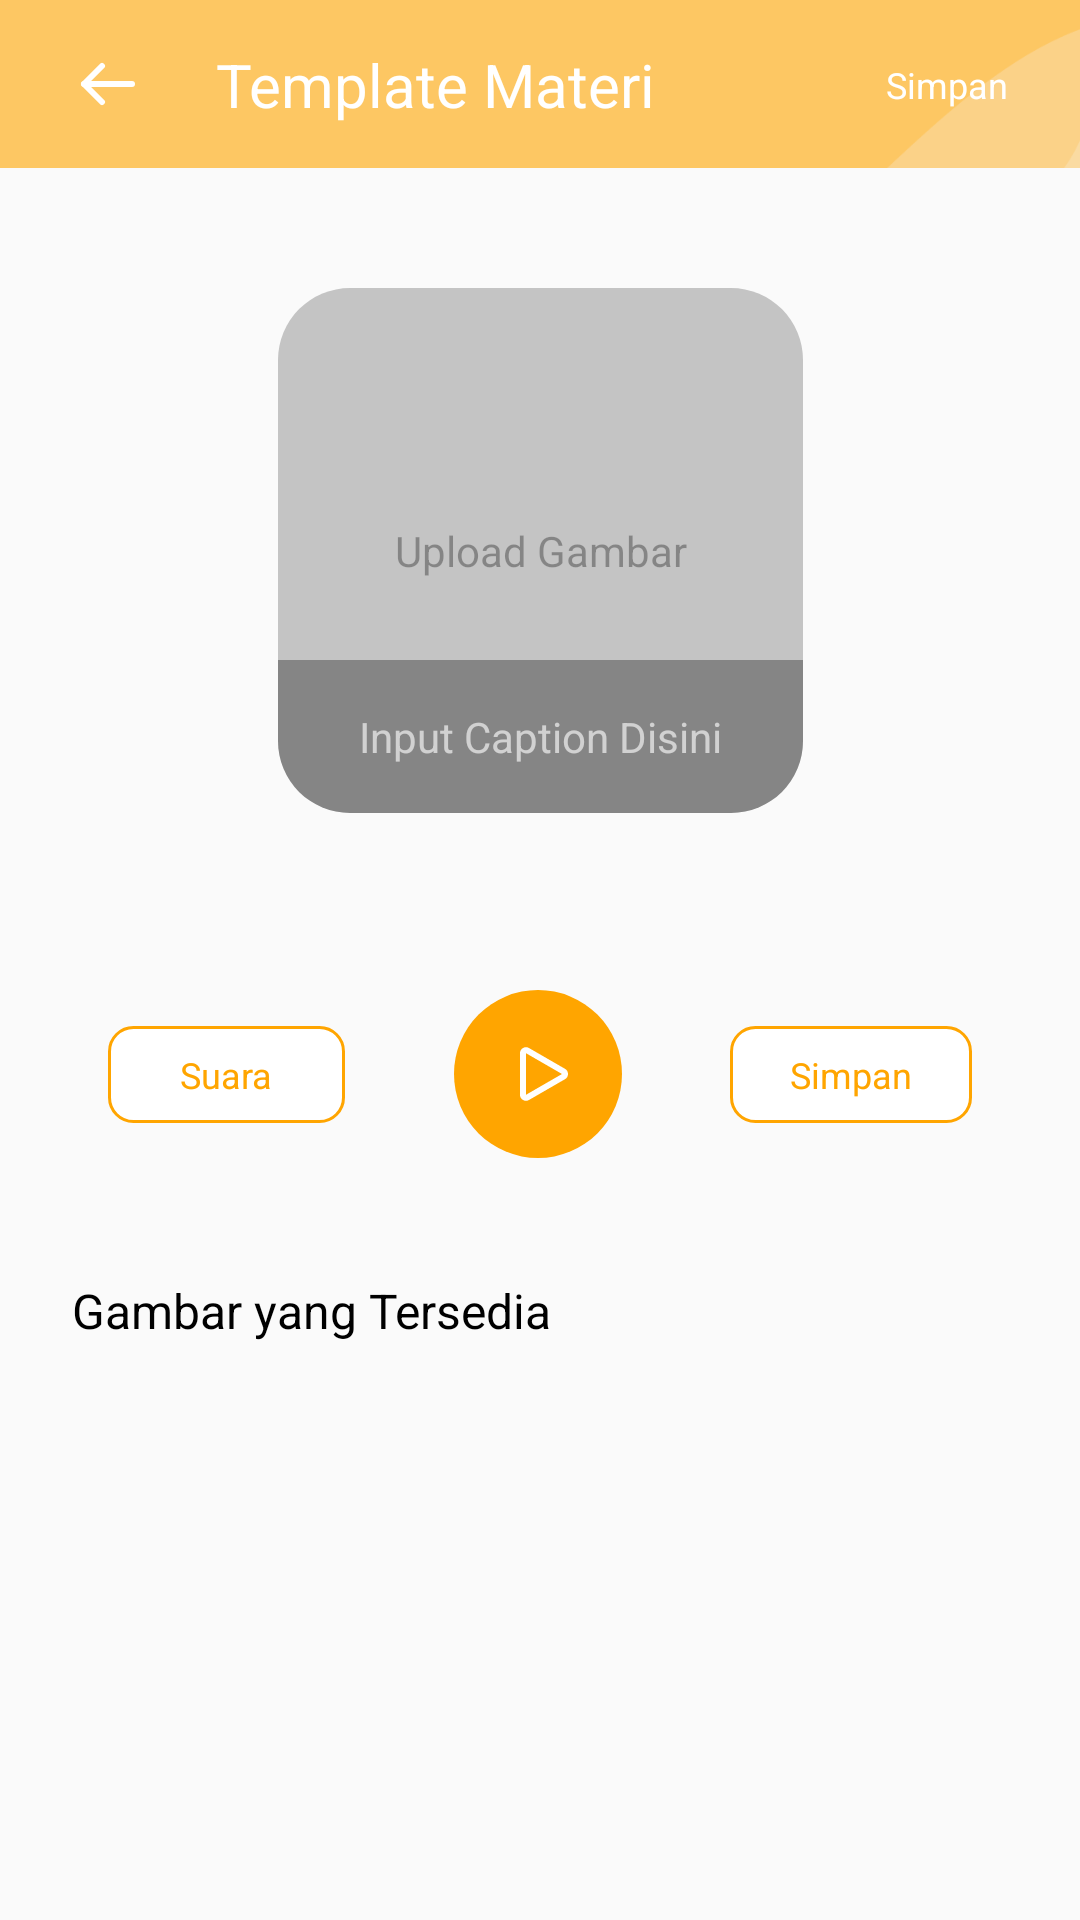

Named icons in this screenshot (1080x1920) and their centers, (x=x, y=y):
play: (x=538, y=1074)
